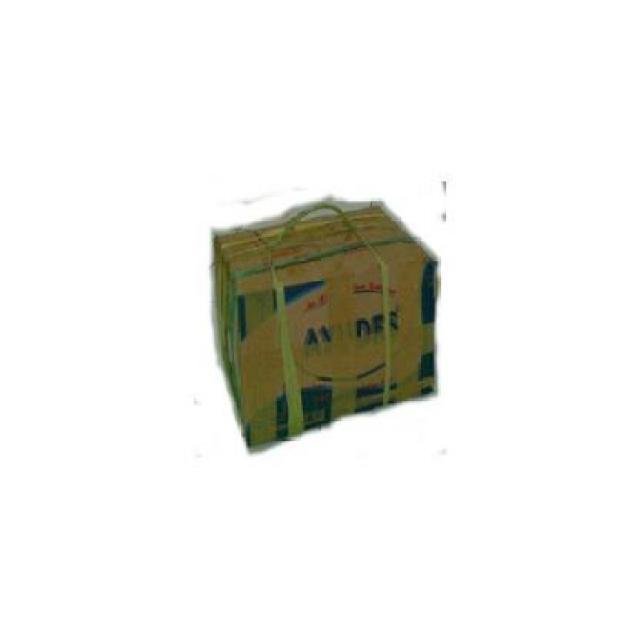box: (210, 193, 438, 455)
